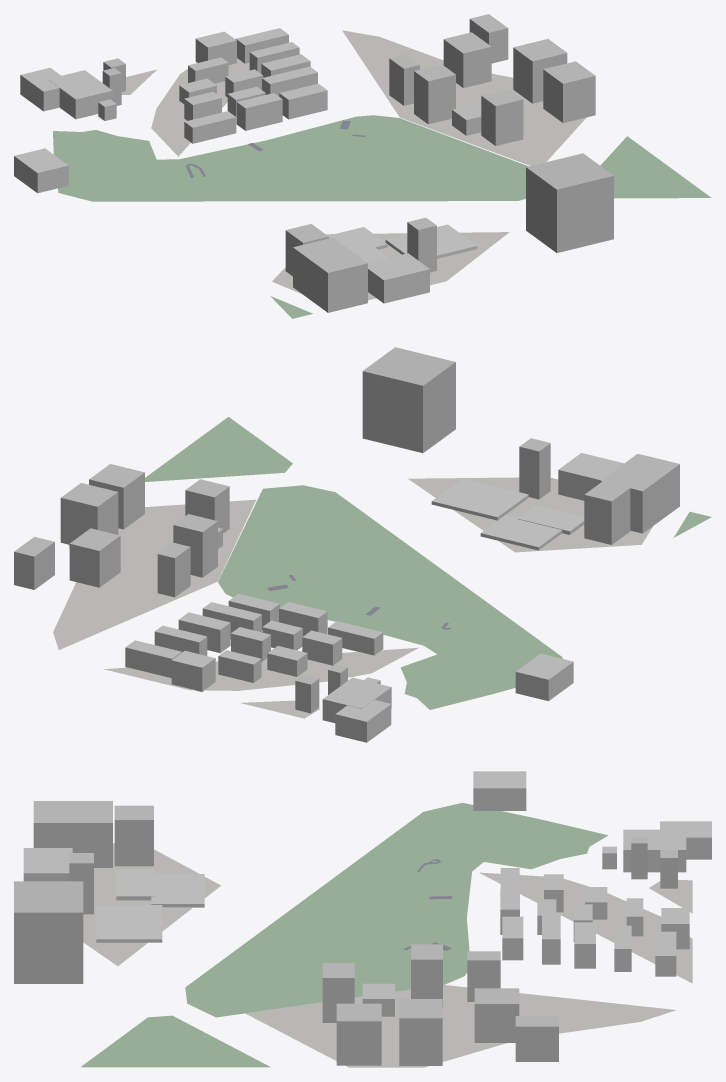
Rendered from 132_103_mid.glb.
3 renders of one model, top to bottom at view 1: azimuth 30°, elevation 25°; view 2: azimuth 150°, elevation 25°; view 3: azimuth 270°, elevation 25°, orthographic. The views are drawn at different scales.
Size of the model in its own units: 498 by 72.91 by 535.
